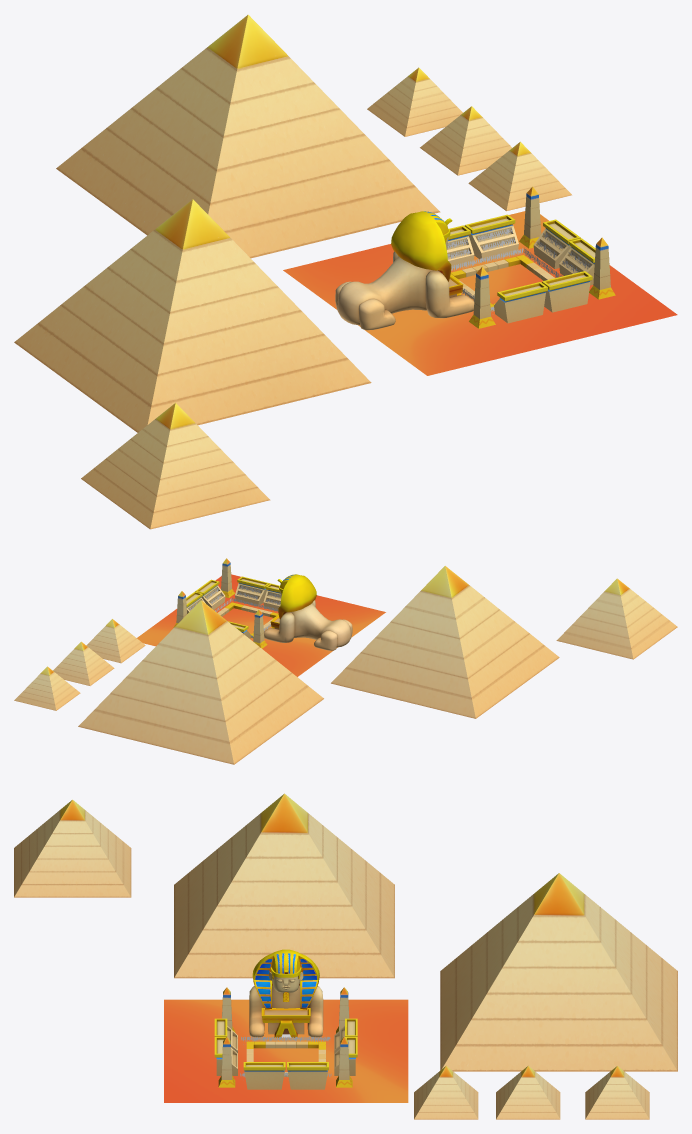
The model's file is egypt_stage.fbx.
3 views of the same model, one above another, from view 1: azimuth 30°, elevation 25°; view 2: azimuth 150°, elevation 25°; view 3: azimuth 270°, elevation 25° (orthographic). The views are drawn at different scales.
Visible parts, largest first — view 1: Cube.069, Cube.065, Plane.019, Cube.067, Cube.047, Cube.071, Cube.068, Cube.070, Cube.123, Cube.121, Cube.122, Cube.072 (+6 smaller); view 2: Cube.069, Cube.065, Cube.067, Plane.019, Cube.047, Cube.071, Cube.070, Cube.068, Cube.122, Cube.124, Plane.018, Cube.080 (+2 smaller); view 3: Cube.069, Cube.065, Plane.019, Cube.067, Cube.047, Cube.068, Cube.070, Cube.071, Cube.124, Cube.072, Plane.018, Cube.080 (+1 smaller).
Part boxes in pixels (x1,y1,x2,y2): Cube.069: (56,14,440,258); Cube.065: (14,199,371,432); Plane.019: (283,211,677,375); Cube.067: (81,403,270,529); Cube.047: (335,211,474,330); Cube.071: (367,67,462,136); Cube.068: (468,141,571,211); Cube.070: (420,106,511,175); Cube.123: (464,214,518,261); Cube.121: (494,282,547,323); Cube.122: (542,271,592,312); Cube.072: (533,219,580,268); Cube.069: (78,600,323,764); Cube.065: (331,566,559,718); Cube.067: (556,578,677,659); Plane.019: (137,574,385,676); Cube.047: (264,574,352,650); Cube.071: (14,666,80,710); Cube.070: (53,641,114,685); Cube.068: (86,619,145,663); Cube.122: (235,576,269,606); Cube.124: (195,579,225,609); Plane.018: (218,602,278,637); Cube.080: (221,558,234,597); Cube.069: (440,873,677,1071); Cube.065: (174,793,394,978); Plane.019: (164,999,408,1102); Cube.067: (14,799,131,897); Cube.047: (249,949,323,1037); Cube.068: (414,1066,478,1119); Cube.070: (496,1066,560,1119); Cube.071: (585,1066,649,1119); Cube.124: (243,1062,285,1089); Cube.072: (287,1062,328,1089); Plane.018: (246,1041,325,1076); Cube.080: (218,1037,235,1087).
Size of what is drawn, in the model's own units: 89084 by 24028 by 92069.
